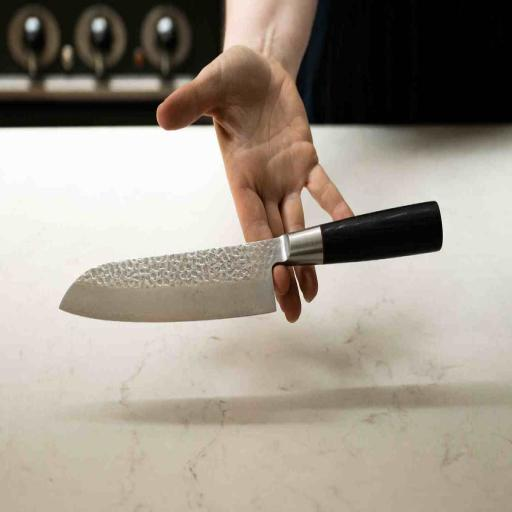knife: (50, 197, 449, 324)
